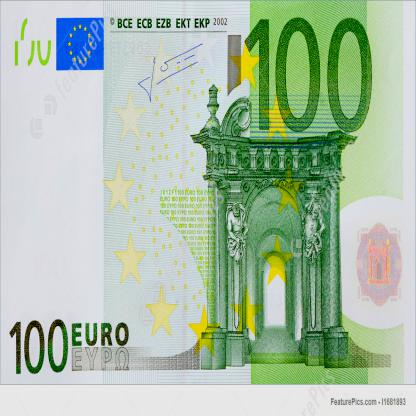euro_banknote: (2, 2, 416, 386)
